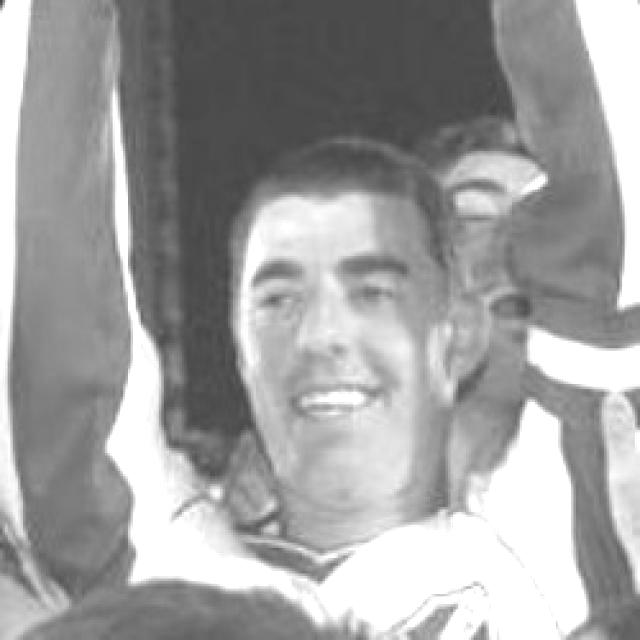real: (243, 166, 452, 520), (254, 272, 405, 320)
